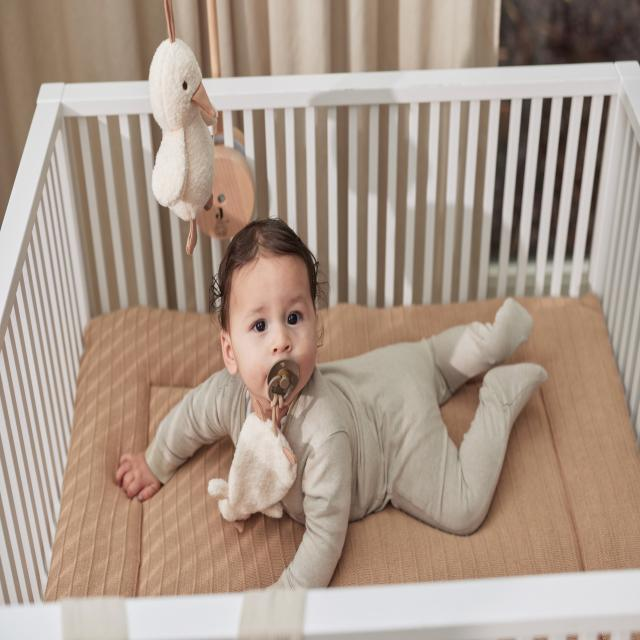child: (111, 213, 547, 592)
